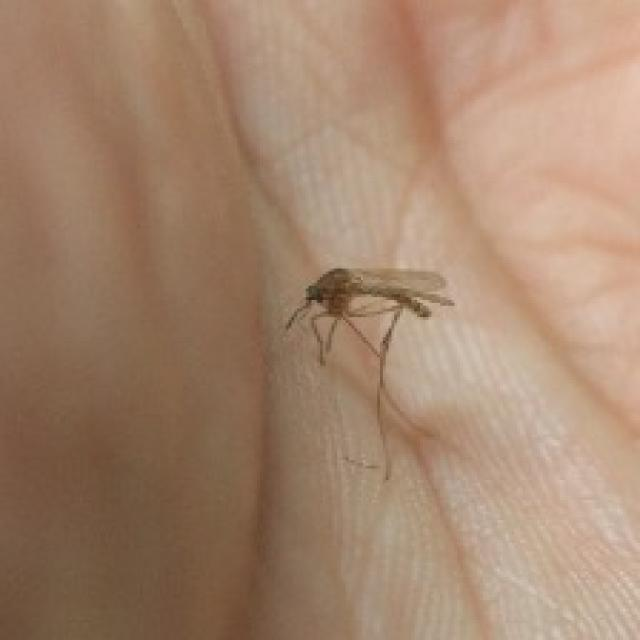culex: (283, 263, 454, 480)
